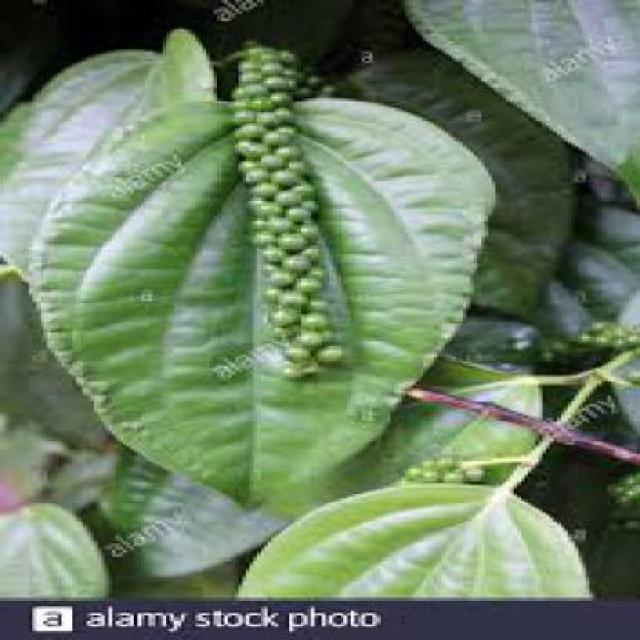UNRIPE: (222, 40, 345, 382)
